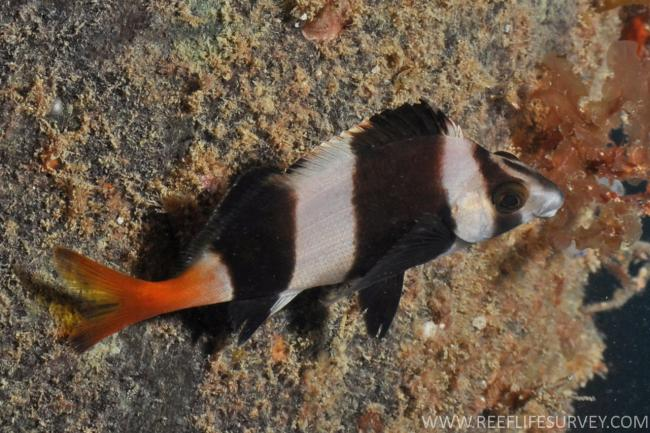fish: (52, 98, 564, 355)
